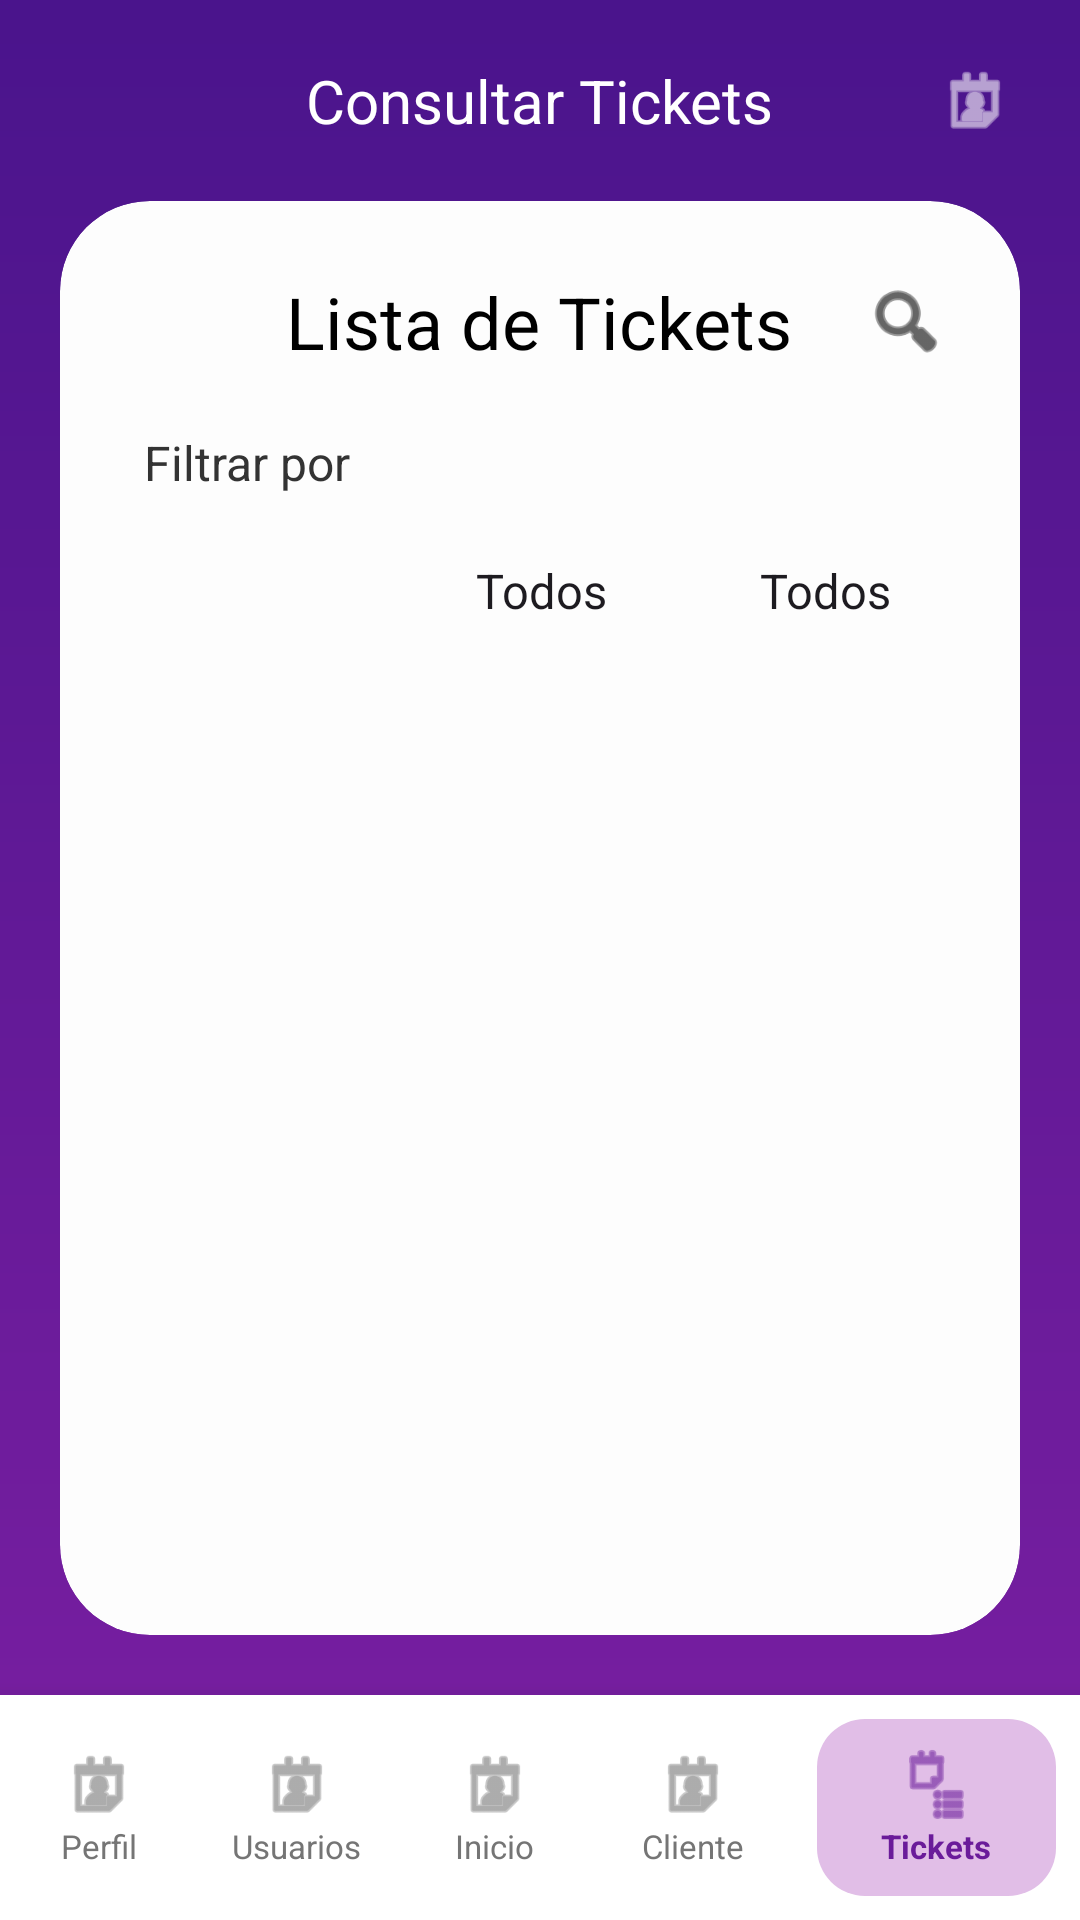

Named icons in this screenshot (1080 x 1920) and their bounding boxes, {"left": x1, "top": y1, "right": x2, "bottom": y2}:
agenda: {"left": 909, "top": 1750, "right": 964, "bottom": 1819}
search: {"left": 875, "top": 290, "right": 937, "bottom": 353}
